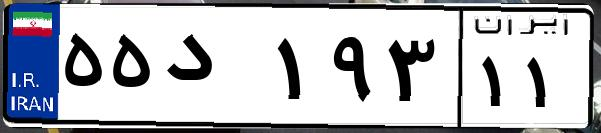1: (270, 28, 330, 110), (475, 38, 525, 113), (525, 38, 570, 115)
3: (385, 28, 445, 110)
5: (57, 26, 110, 100), (110, 28, 158, 98)
9: (330, 28, 385, 110)
د: (158, 20, 270, 120)
